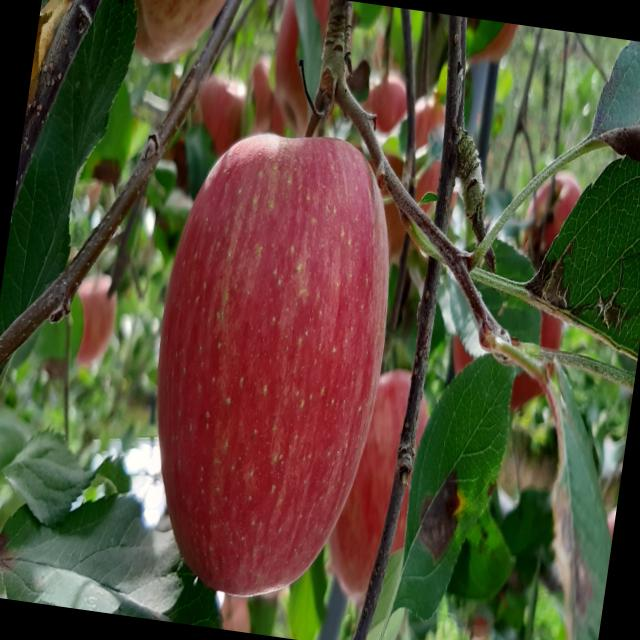fresh: (122, 103, 420, 620)
